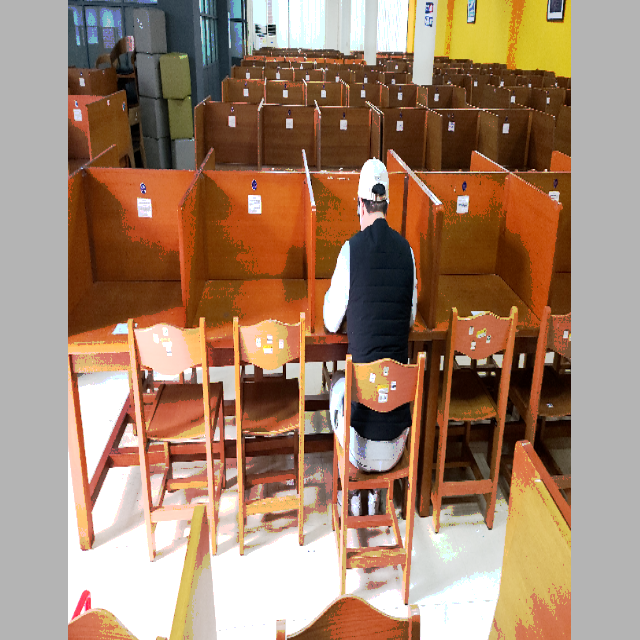empty: (188, 173, 310, 436), (73, 167, 183, 429)
full: (316, 140, 441, 476)
